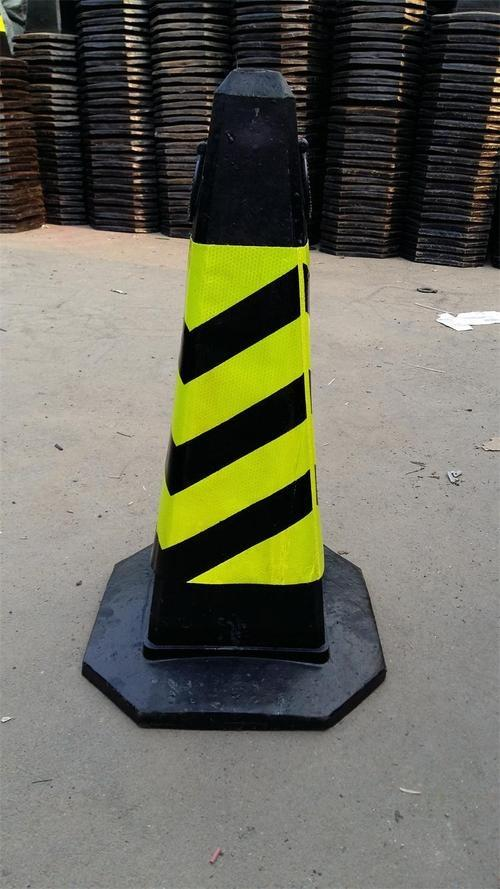cone_barrel: (120, 55, 361, 687)
